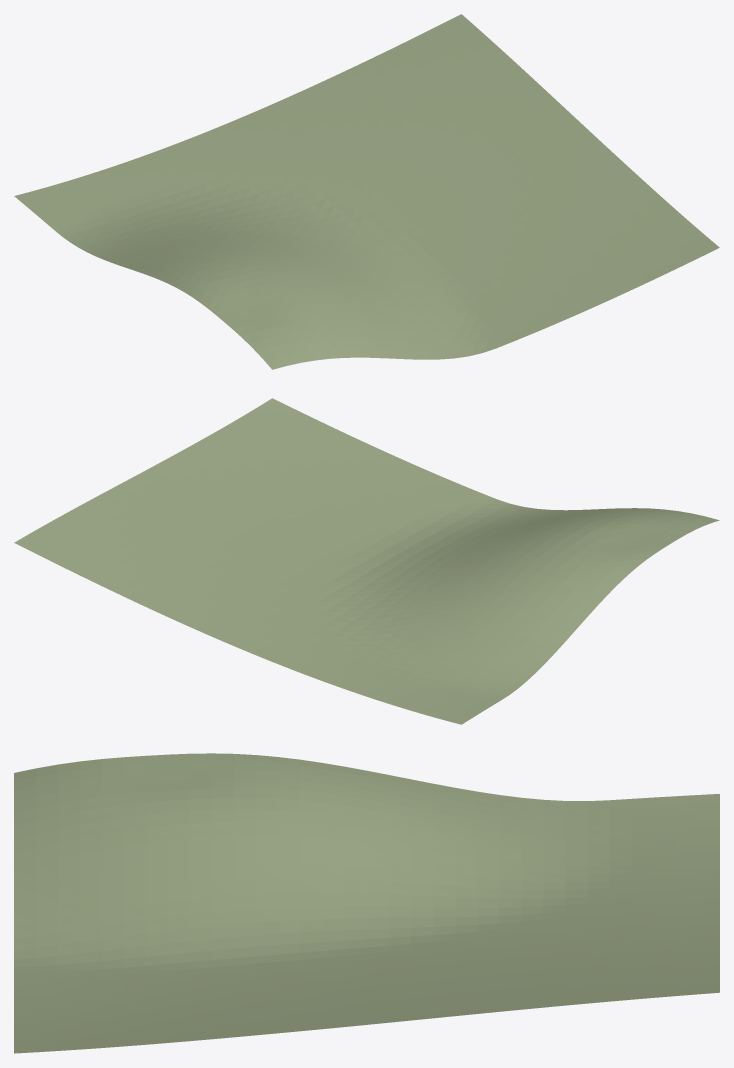
File: desert-22-8.glb
The picture shows the model from 3 angles, top to bottom: view 1: azimuth 30°, elevation 25°; view 2: azimuth 150°, elevation 25°; view 3: azimuth 270°, elevation 25°; orthographic projection. The views are drawn at different scales.
Parts seen in each view (by area): view 1: desert-22-8; view 2: desert-22-8; view 3: desert-22-8.
Boxes of the visible parts, <box> form: desert-22-8: <box>14,14,719,369</box>; desert-22-8: <box>14,398,719,724</box>; desert-22-8: <box>14,753,719,1053</box>.
Bounding box in the file's own units: 512 × 101 × 512.
